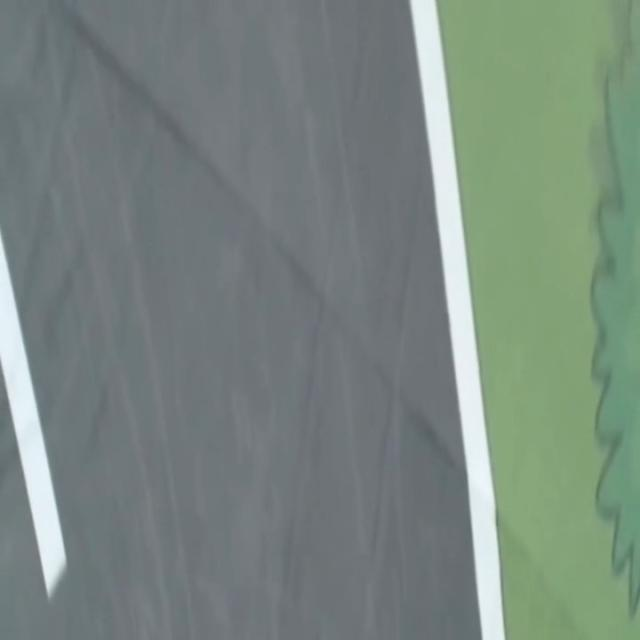center: (0, 228, 66, 598)
right: (410, 0, 505, 639)
